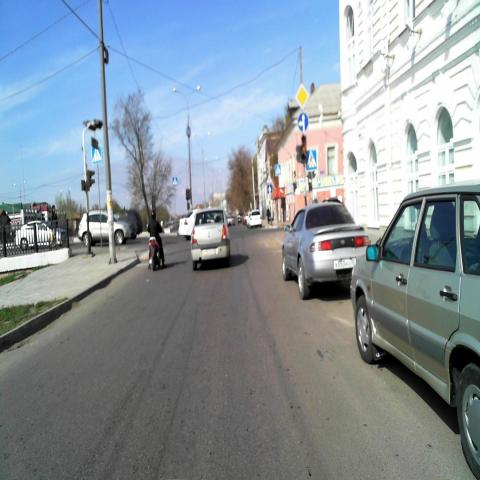4_1_5: (297, 113, 308, 131)
